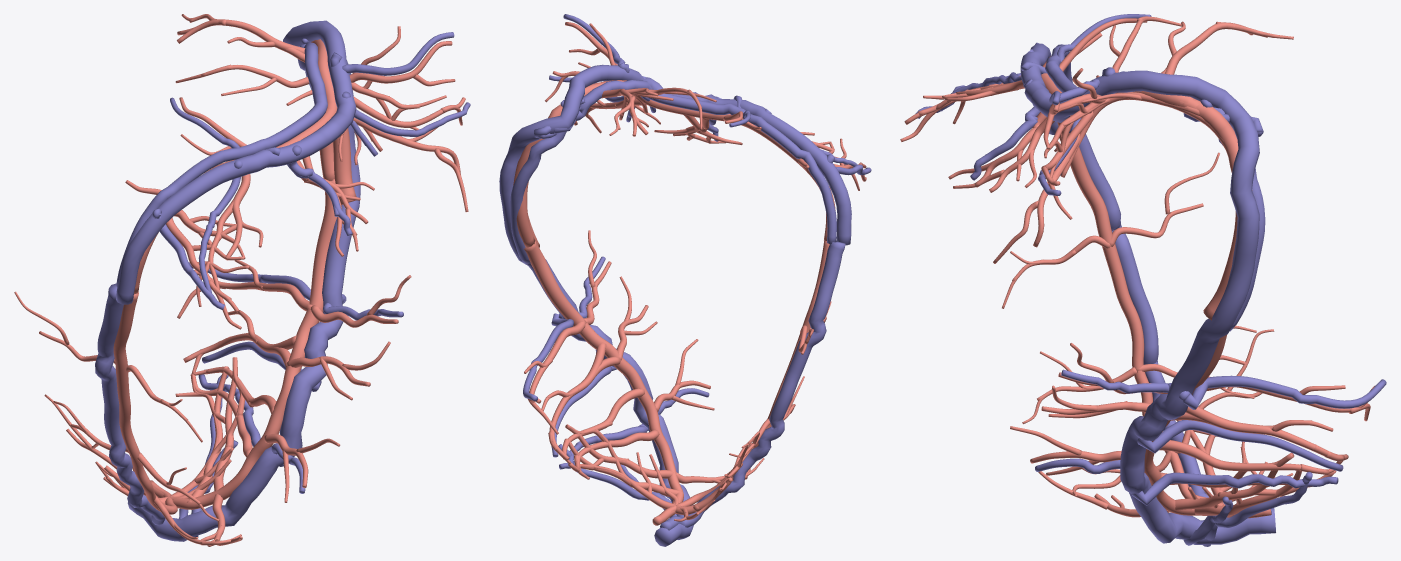
File: vessels_17.glb
The picture shows the model from 3 angles, left to right: view 1: azimuth 30°, elevation 25°; view 2: azimuth 150°, elevation 25°; view 3: azimuth 270°, elevation 25°; orthographic projection. The views are drawn at different scales.
Parts seen in each view (by area): view 1: Renderer Node; view 2: Renderer Node; view 3: Renderer Node.
Part boxes in pixels (x1,y1,x2,y2): Renderer Node: (14,14,470,546); Renderer Node: (499,14,871,546); Renderer Node: (900,14,1386,546).
Size of the model in its own units: 94.32 by 122 by 94.76.
